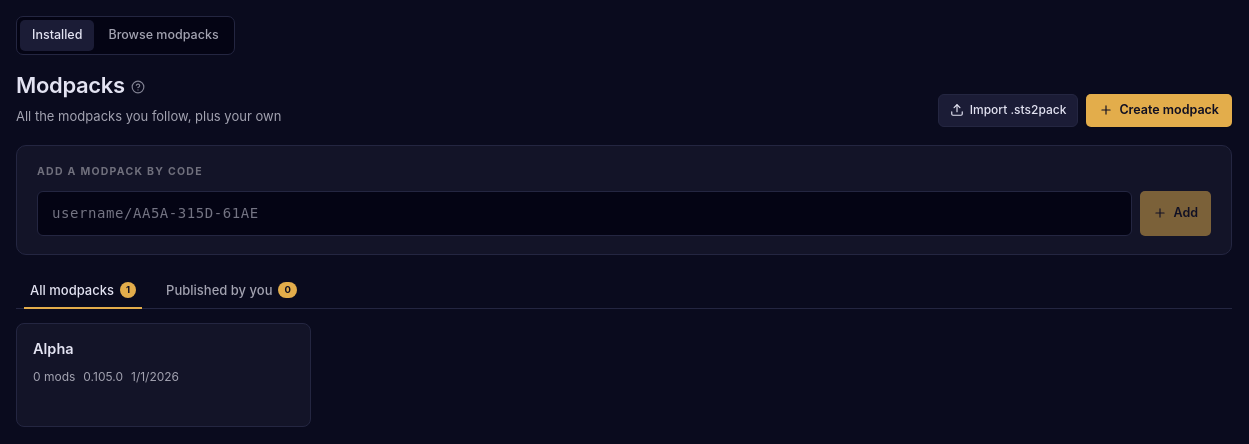
Test: <ProfilesView> › outer tab strip: Installed is the default; switching to Browse renders BrowseModpacksView
This screenshot has width=1249, height=444.
Expected: the text "Alpha" is shown, [33,338,74,360]
Expected: the button "Installed" is shown, [20,20,94,51]
# Click Browse — outer tab
Click the button "Browse modpacks" at (164, 35), box [96,20,231,51]
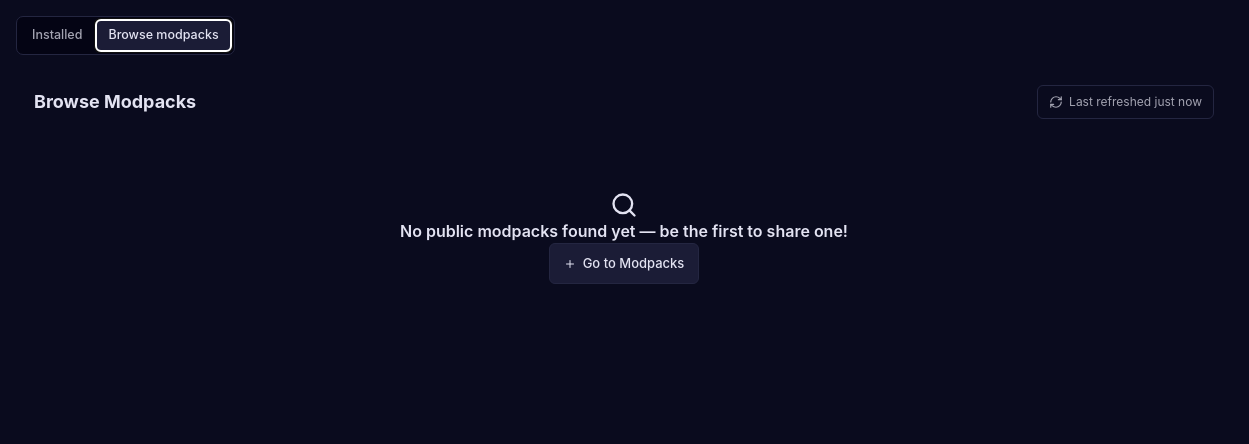
Now the heading "Browse Modpacks" is shown, box [34,88,196,115]
# Switch back — the modpack row reappears
Click the button "Installed" at (57, 35), box [20,20,94,51]
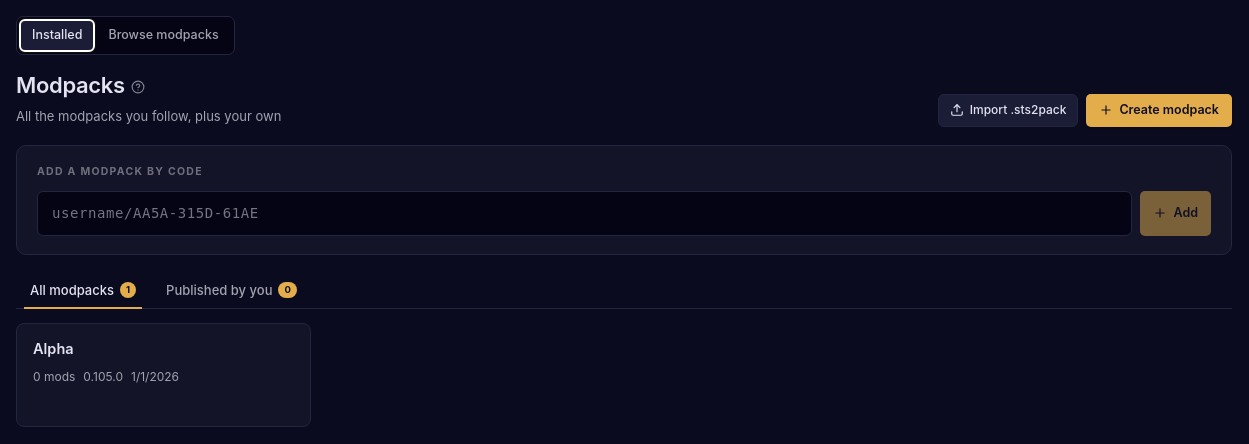
Now the text "Alpha" is shown, box [33,338,74,360]
